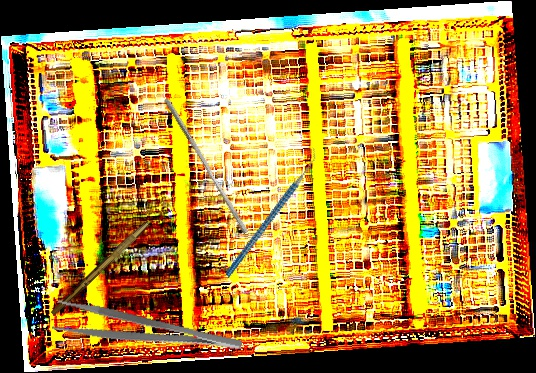Chopper: (193, 145, 348, 279)
Dressing Forceps: (51, 296, 244, 370)
Pusher: (158, 97, 254, 235)
Scalpel Handle: (49, 217, 151, 319)
